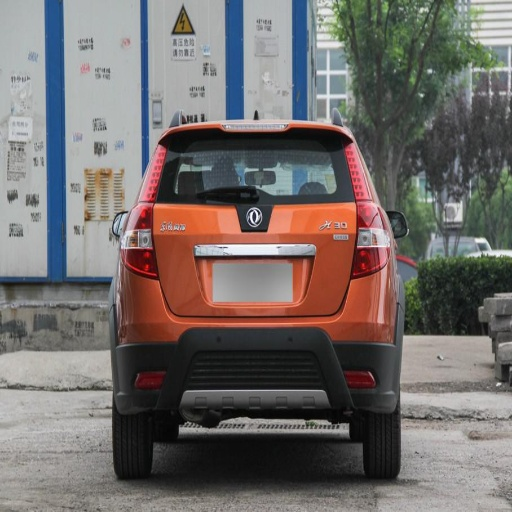back_bumper: (115, 256, 403, 409)
tailgate: (153, 202, 226, 313)
trunk: (155, 200, 358, 314)
